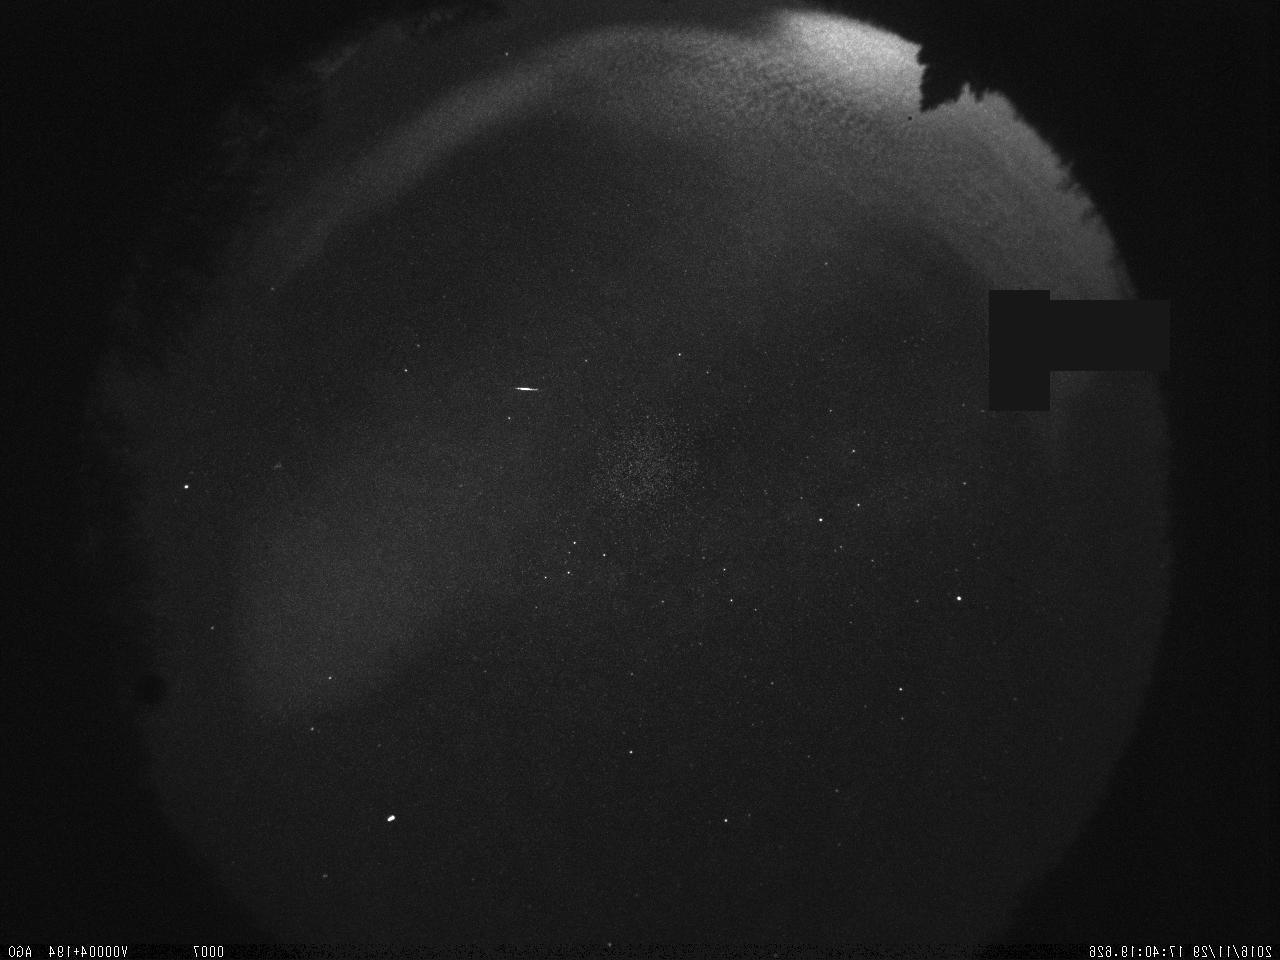meteor: (499, 378, 553, 399)
